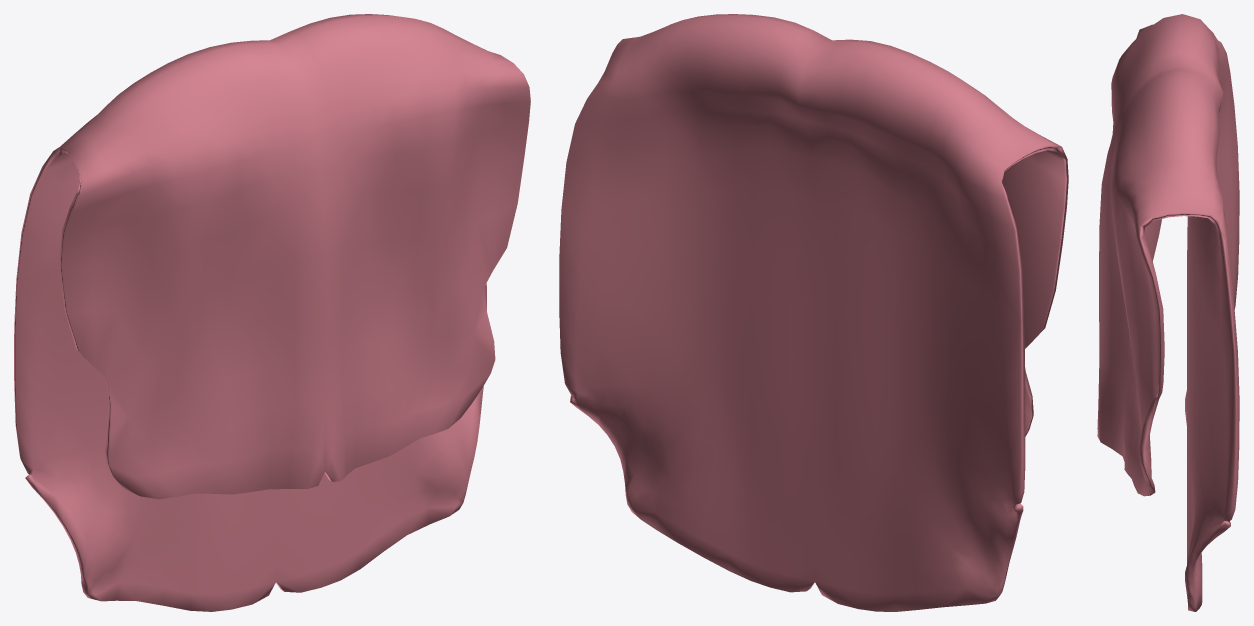
3 views of the same model, side by side, from view 1: azimuth 30°, elevation 25°; view 2: azimuth 150°, elevation 25°; view 3: azimuth 270°, elevation 25° (orthographic). The views are drawn at different scales.
Parts seen in each view (by area): view 1: 软腭; view 2: 软腭; view 3: 软腭.
Part boxes in pixels (x1,y1,x2,y2): 软腭: (14,14,530,611); 软腭: (559,14,1068,611); 软腭: (1097,14,1239,611).
Size of the model in its own units: 0.052 by 0.0598 by 0.0151.
